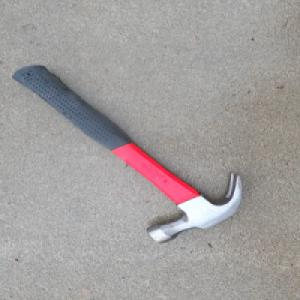Hammer: (11, 64, 246, 247)
